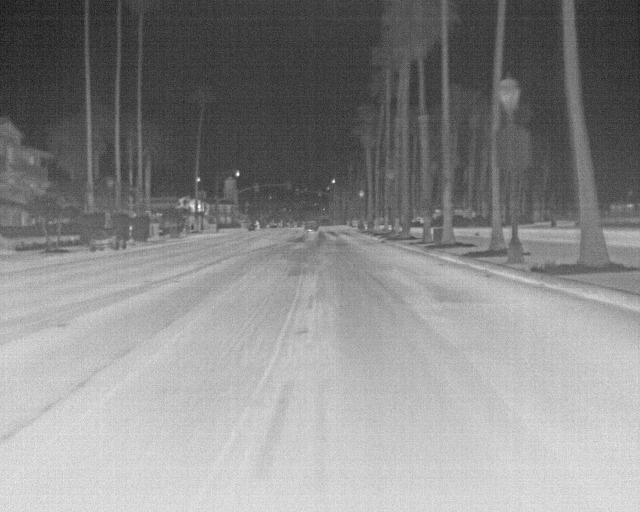car: (90, 227, 127, 253), (304, 219, 320, 233)
